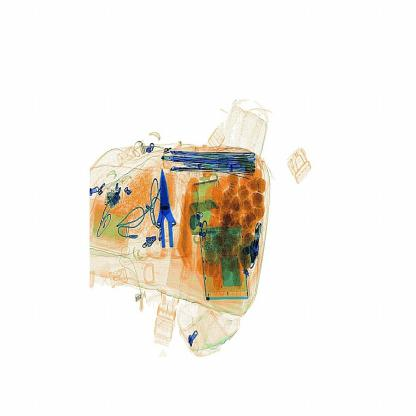gun: (145, 165, 202, 266)
